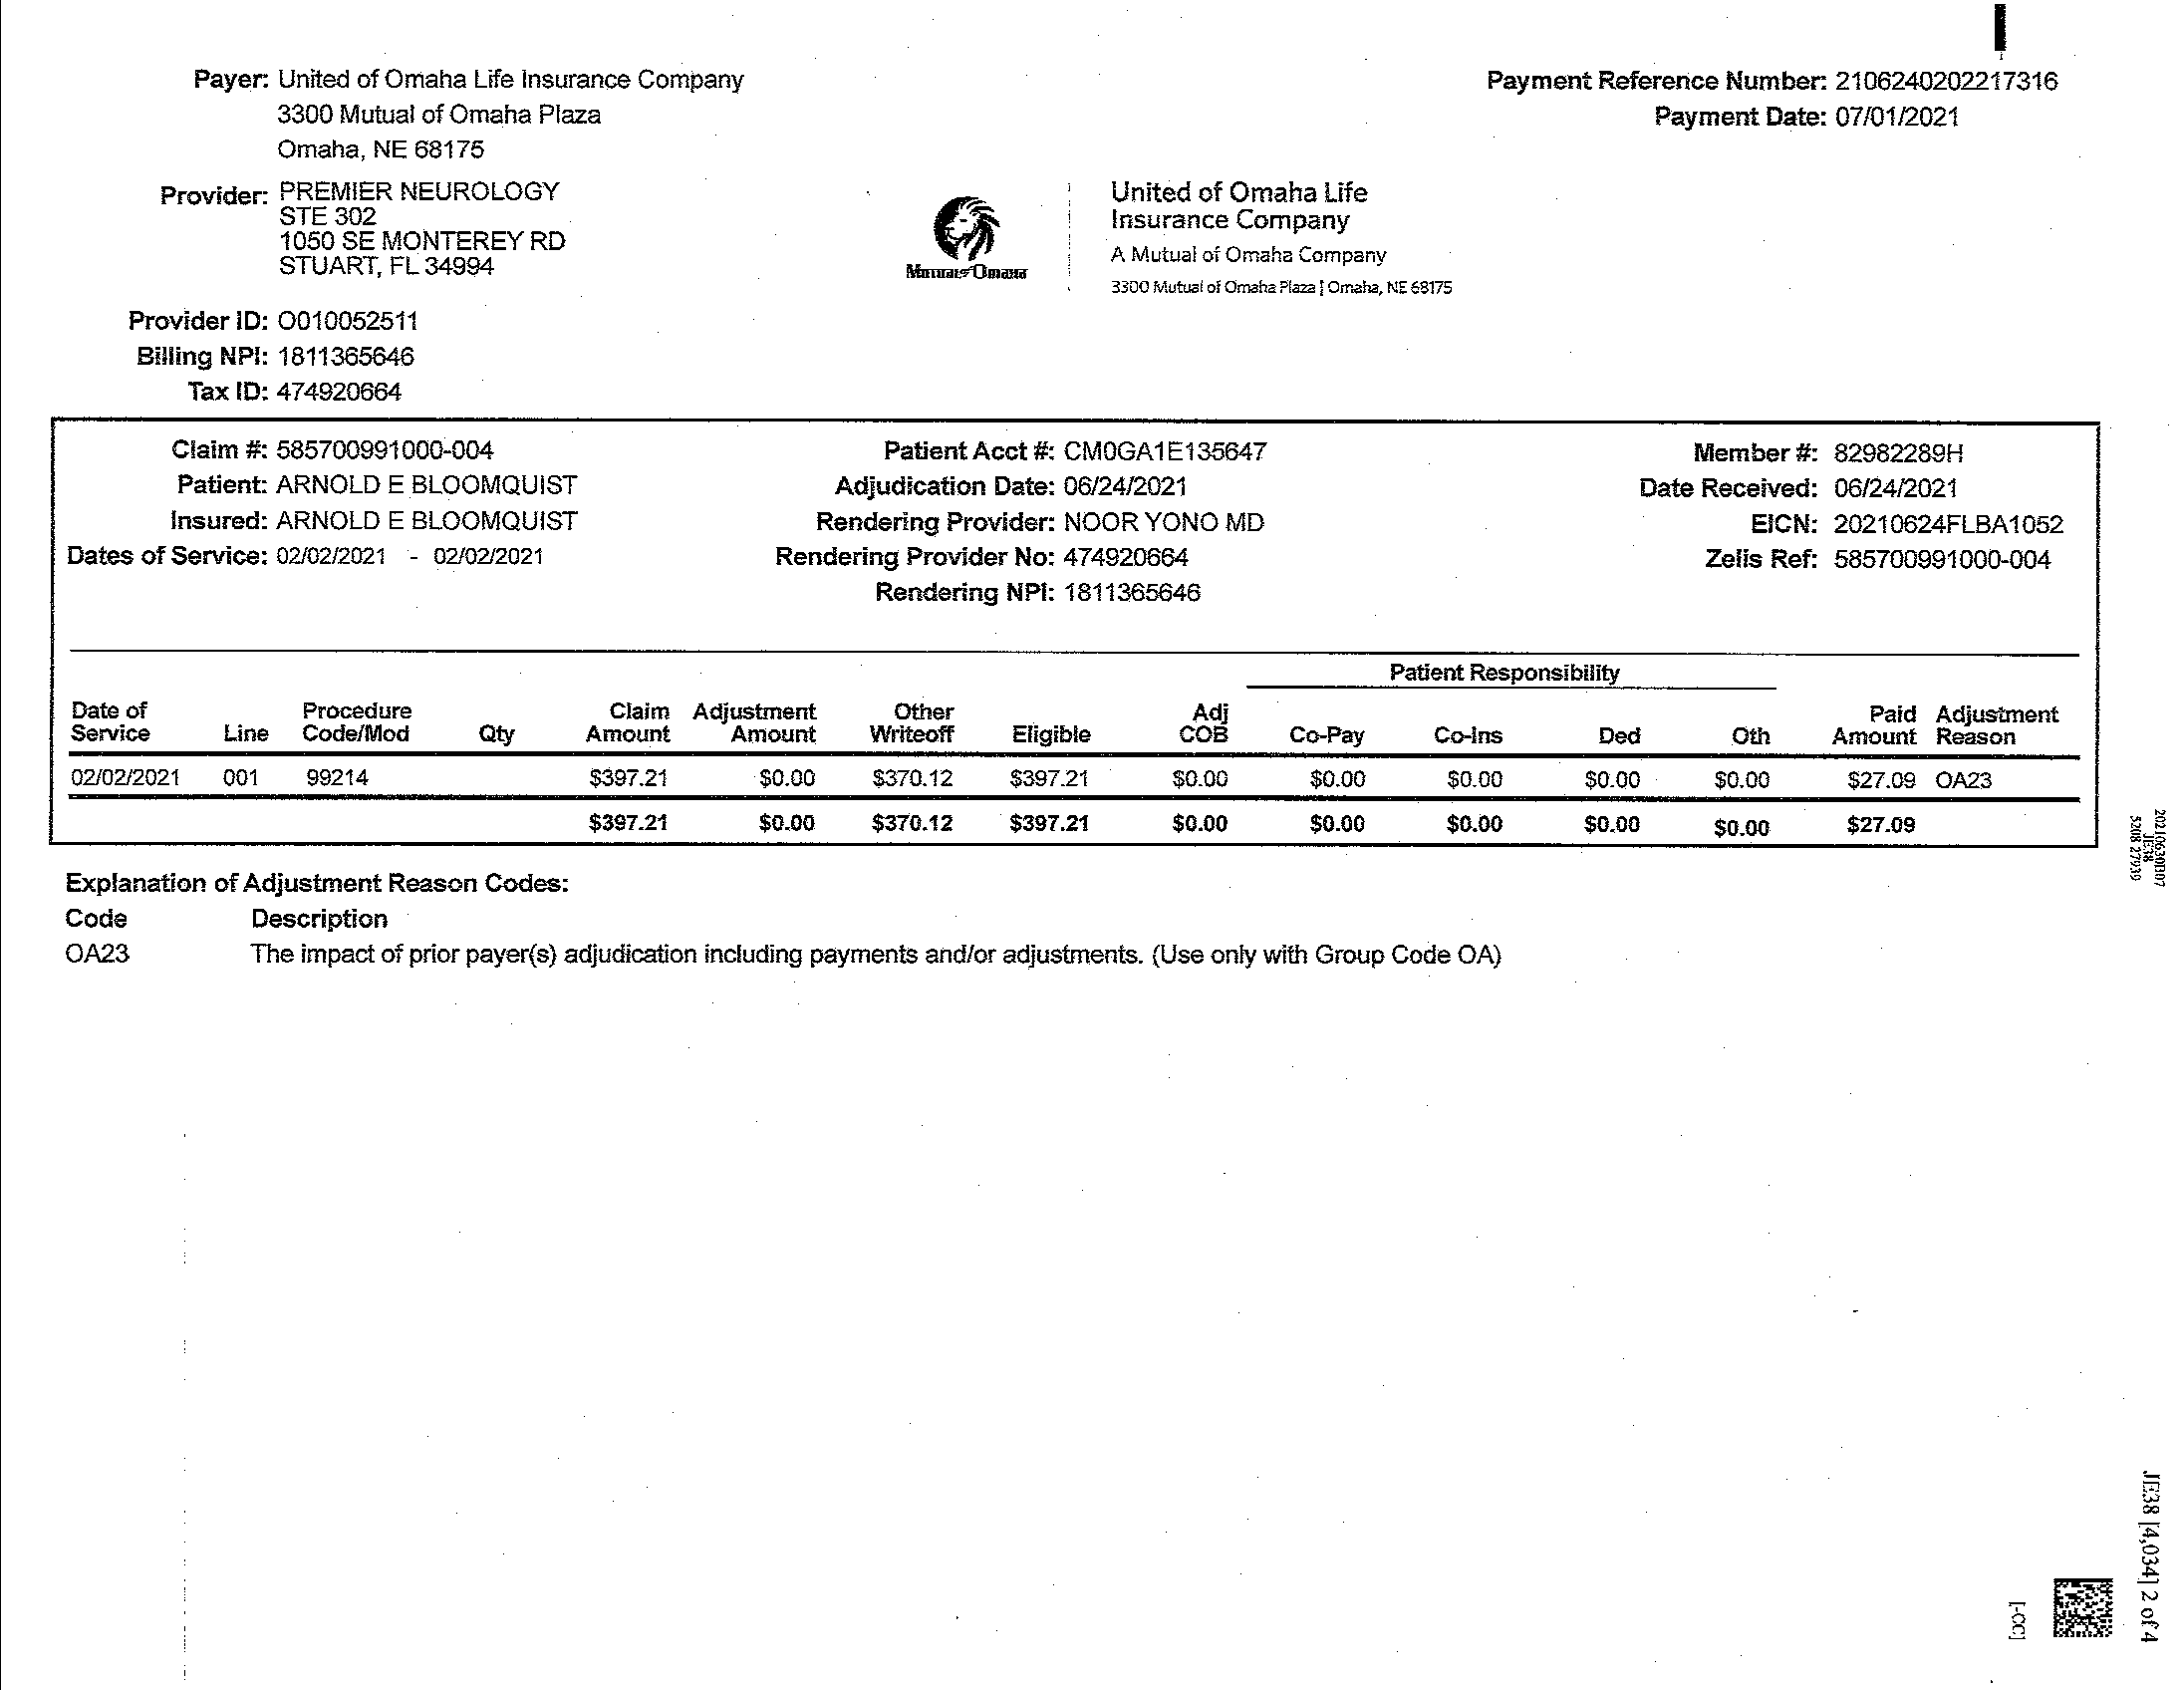data: (769, 427, 1292, 617), (62, 424, 596, 596), (1629, 427, 2071, 587), (183, 51, 766, 167), (144, 174, 576, 284), (122, 300, 431, 411)
table: (44, 640, 2115, 872)
